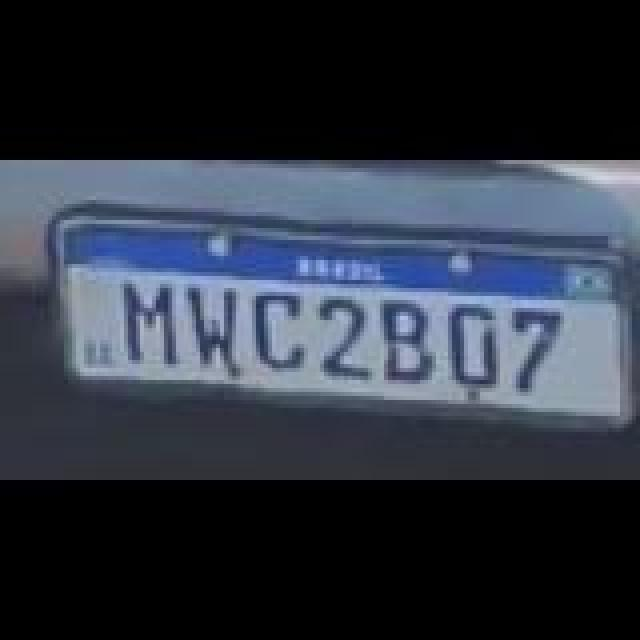2: (312, 298, 376, 382)
7: (508, 306, 572, 398)
B: (378, 298, 446, 382)
C: (248, 292, 312, 372)
D: (442, 300, 510, 388)
M: (120, 280, 192, 368)
W: (182, 284, 250, 372)
